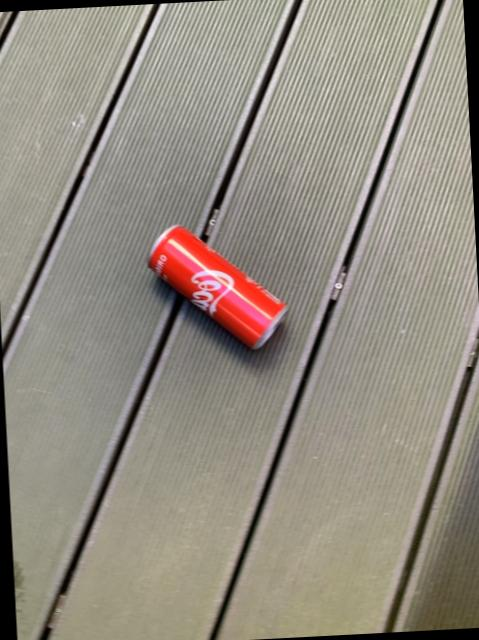metal: (147, 228, 284, 350)
